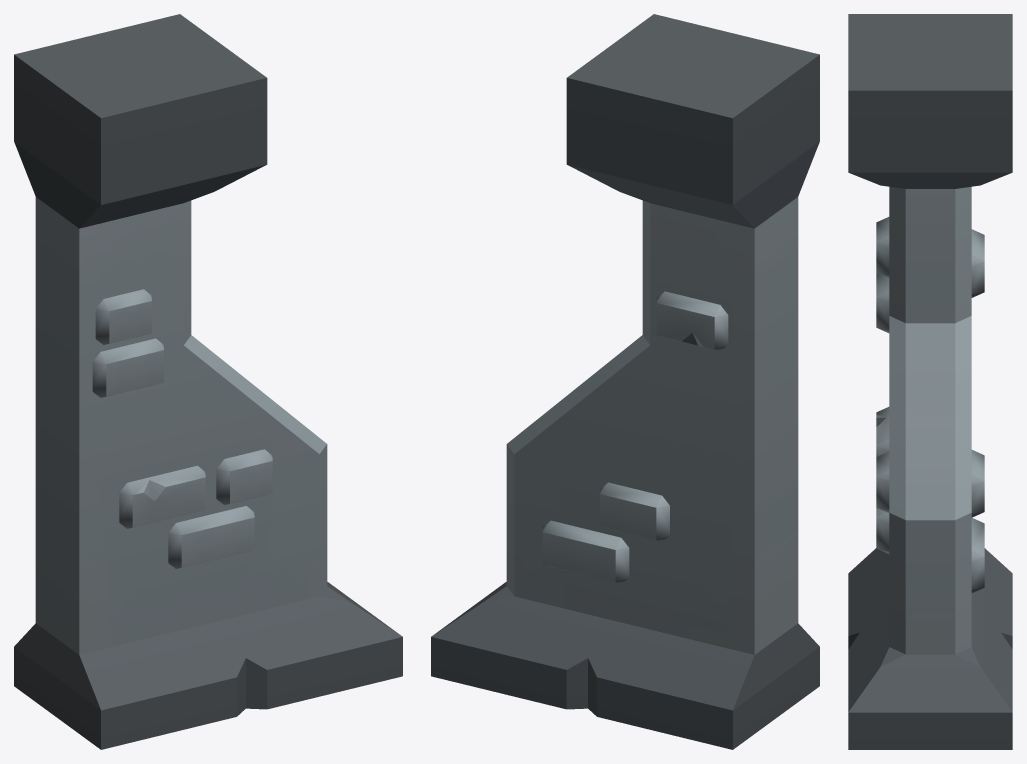
File: kaykit-dungeon-remastered-wall-half-endcap-sloped-gltf.glb
The picture shows the model from 3 angles, left to right: view 1: azimuth 30°, elevation 25°; view 2: azimuth 150°, elevation 25°; view 3: azimuth 270°, elevation 25°; orthographic projection. The views are drawn at different scales.
Visible parts, largest first — view 1: wall_half_endcap_sloped; view 2: wall_half_endcap_sloped; view 3: wall_half_endcap_sloped.
Part boxes in pixels (<box>): wall_half_endcap_sloped: <box>14,14,402,749</box>; wall_half_endcap_sloped: <box>431,14,819,749</box>; wall_half_endcap_sloped: <box>848,14,1012,749</box>.
Size of the model in its own units: 2 by 4 by 1.
1 material, 1 textured.
